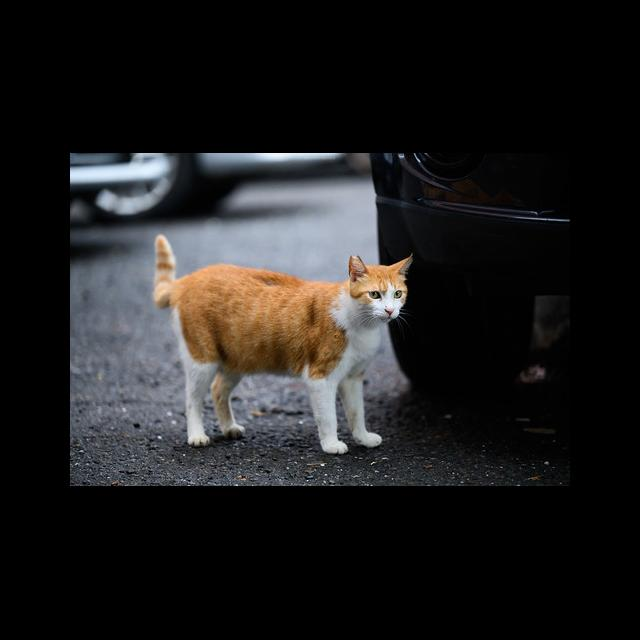animals: (154, 235, 414, 455)
